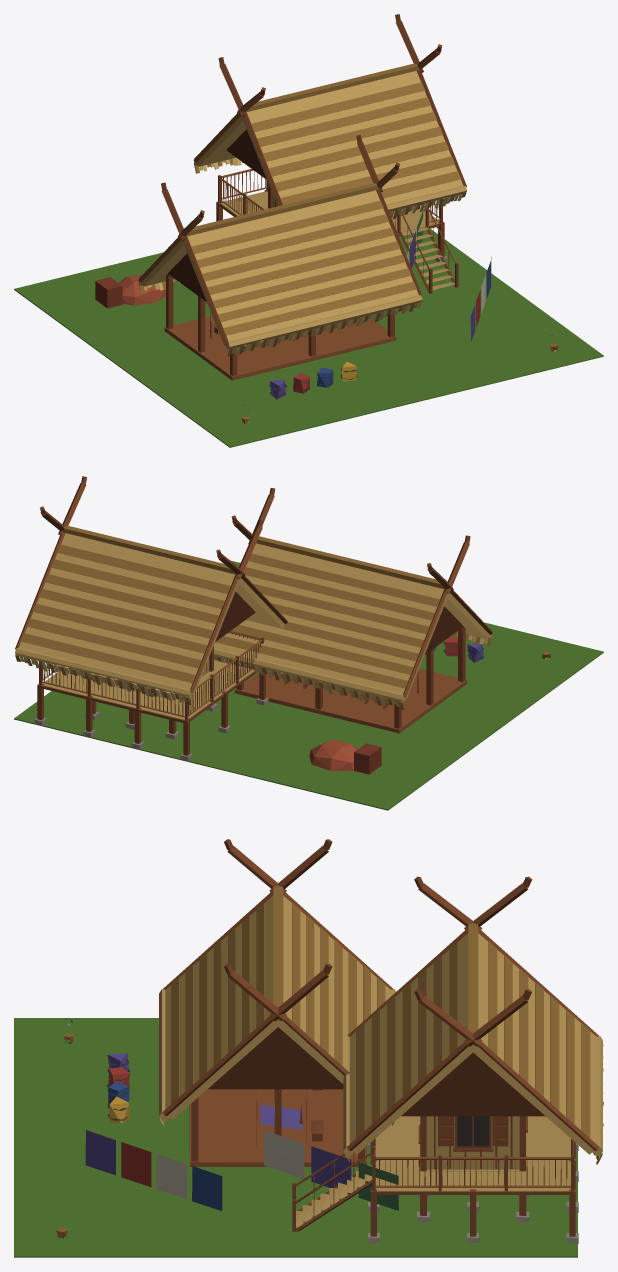
The model's file is factory_1.glb.
3 views of the same model, one above another, from view 1: azimuth 30°, elevation 25°; view 2: azimuth 150°, elevation 25°; view 3: azimuth 270°, elevation 25° (orthographic). The views are drawn at different scales.
Parts seen in each view (by area): view 1: body; view 2: body; view 3: body, windows.
Boxes of the visible parts, bbox=[...] form: body: bbox=[14, 14, 603, 447]; body: bbox=[14, 476, 603, 810]; body: bbox=[14, 839, 603, 1257]; windows: bbox=[457, 1116, 489, 1146].
Bounding box in the file's own units: 15.9 × 8.31 × 16.64.
